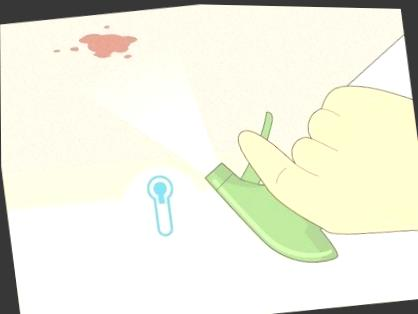Fire: (77, 34, 137, 58)
